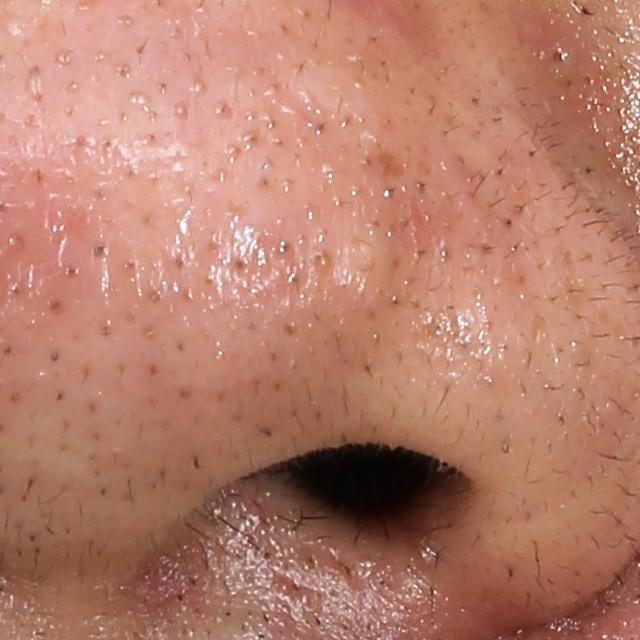comedo: (308, 249, 332, 268)
